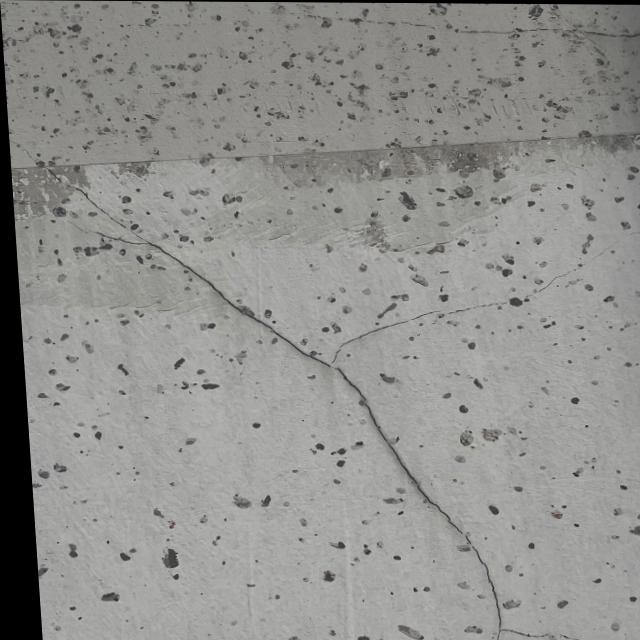crack: (72, 186, 610, 634)
